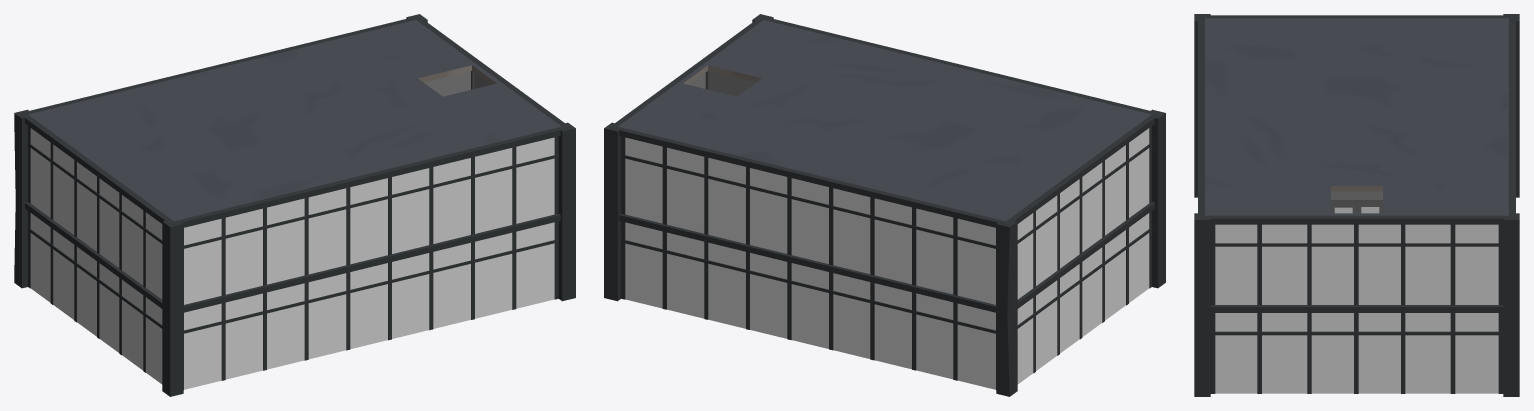
Rendered from SM_Bldg_City_High-Rise_Modern_03_Mid_02.fbx.
3 renders of one model, left to right at view 1: azimuth 30°, elevation 25°; view 2: azimuth 150°, elevation 25°; view 3: azimuth 270°, elevation 25°, orthographic. The views are drawn at different scales.
Visible parts, largest first — view 1: SM_Bldg_City_High-Rise_Modern_03_Mid_02; view 2: SM_Bldg_City_High-Rise_Modern_03_Mid_02; view 3: SM_Bldg_City_High-Rise_Modern_03_Mid_02.
Boxes of the visible parts, <box> form: SM_Bldg_City_High-Rise_Modern_03_Mid_02: <box>14,14,575,396</box>; SM_Bldg_City_High-Rise_Modern_03_Mid_02: <box>604,14,1165,396</box>; SM_Bldg_City_High-Rise_Modern_03_Mid_02: <box>1194,14,1519,396</box>.
Bounding box in the file's own units: 1500 × 600 × 1000.
